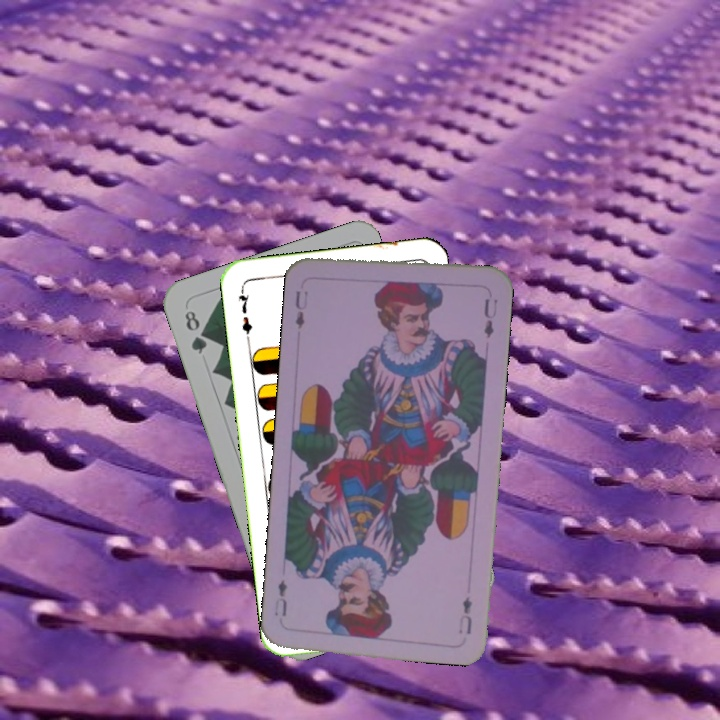E7: (233, 284, 255, 343)
EU: (454, 593, 475, 637), (291, 286, 311, 332)
G8: (180, 306, 210, 357)
